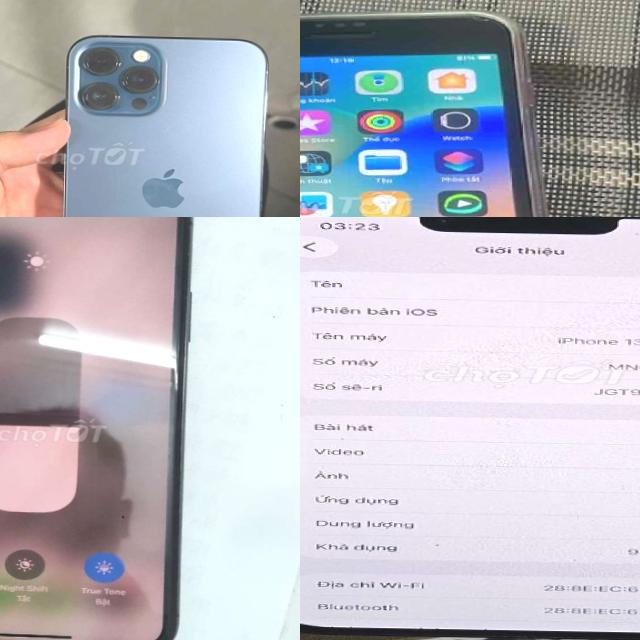gen_11: (0, 217, 206, 640)
gen_12_13: (300, 217, 640, 640), (60, 32, 271, 217)
gen_7_8: (300, 10, 545, 217)
physical_damage: (431, 10, 522, 38)
